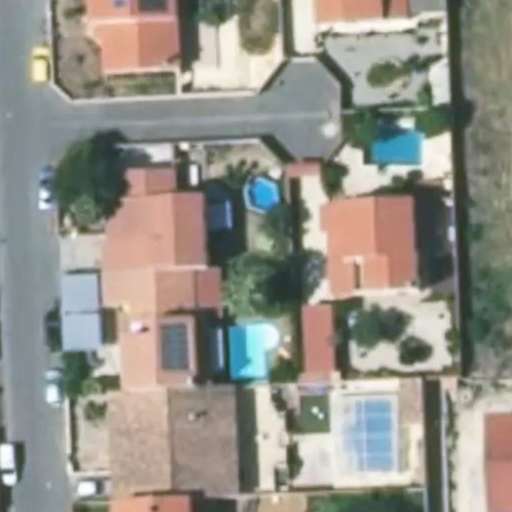pool: (228, 229, 283, 253)
